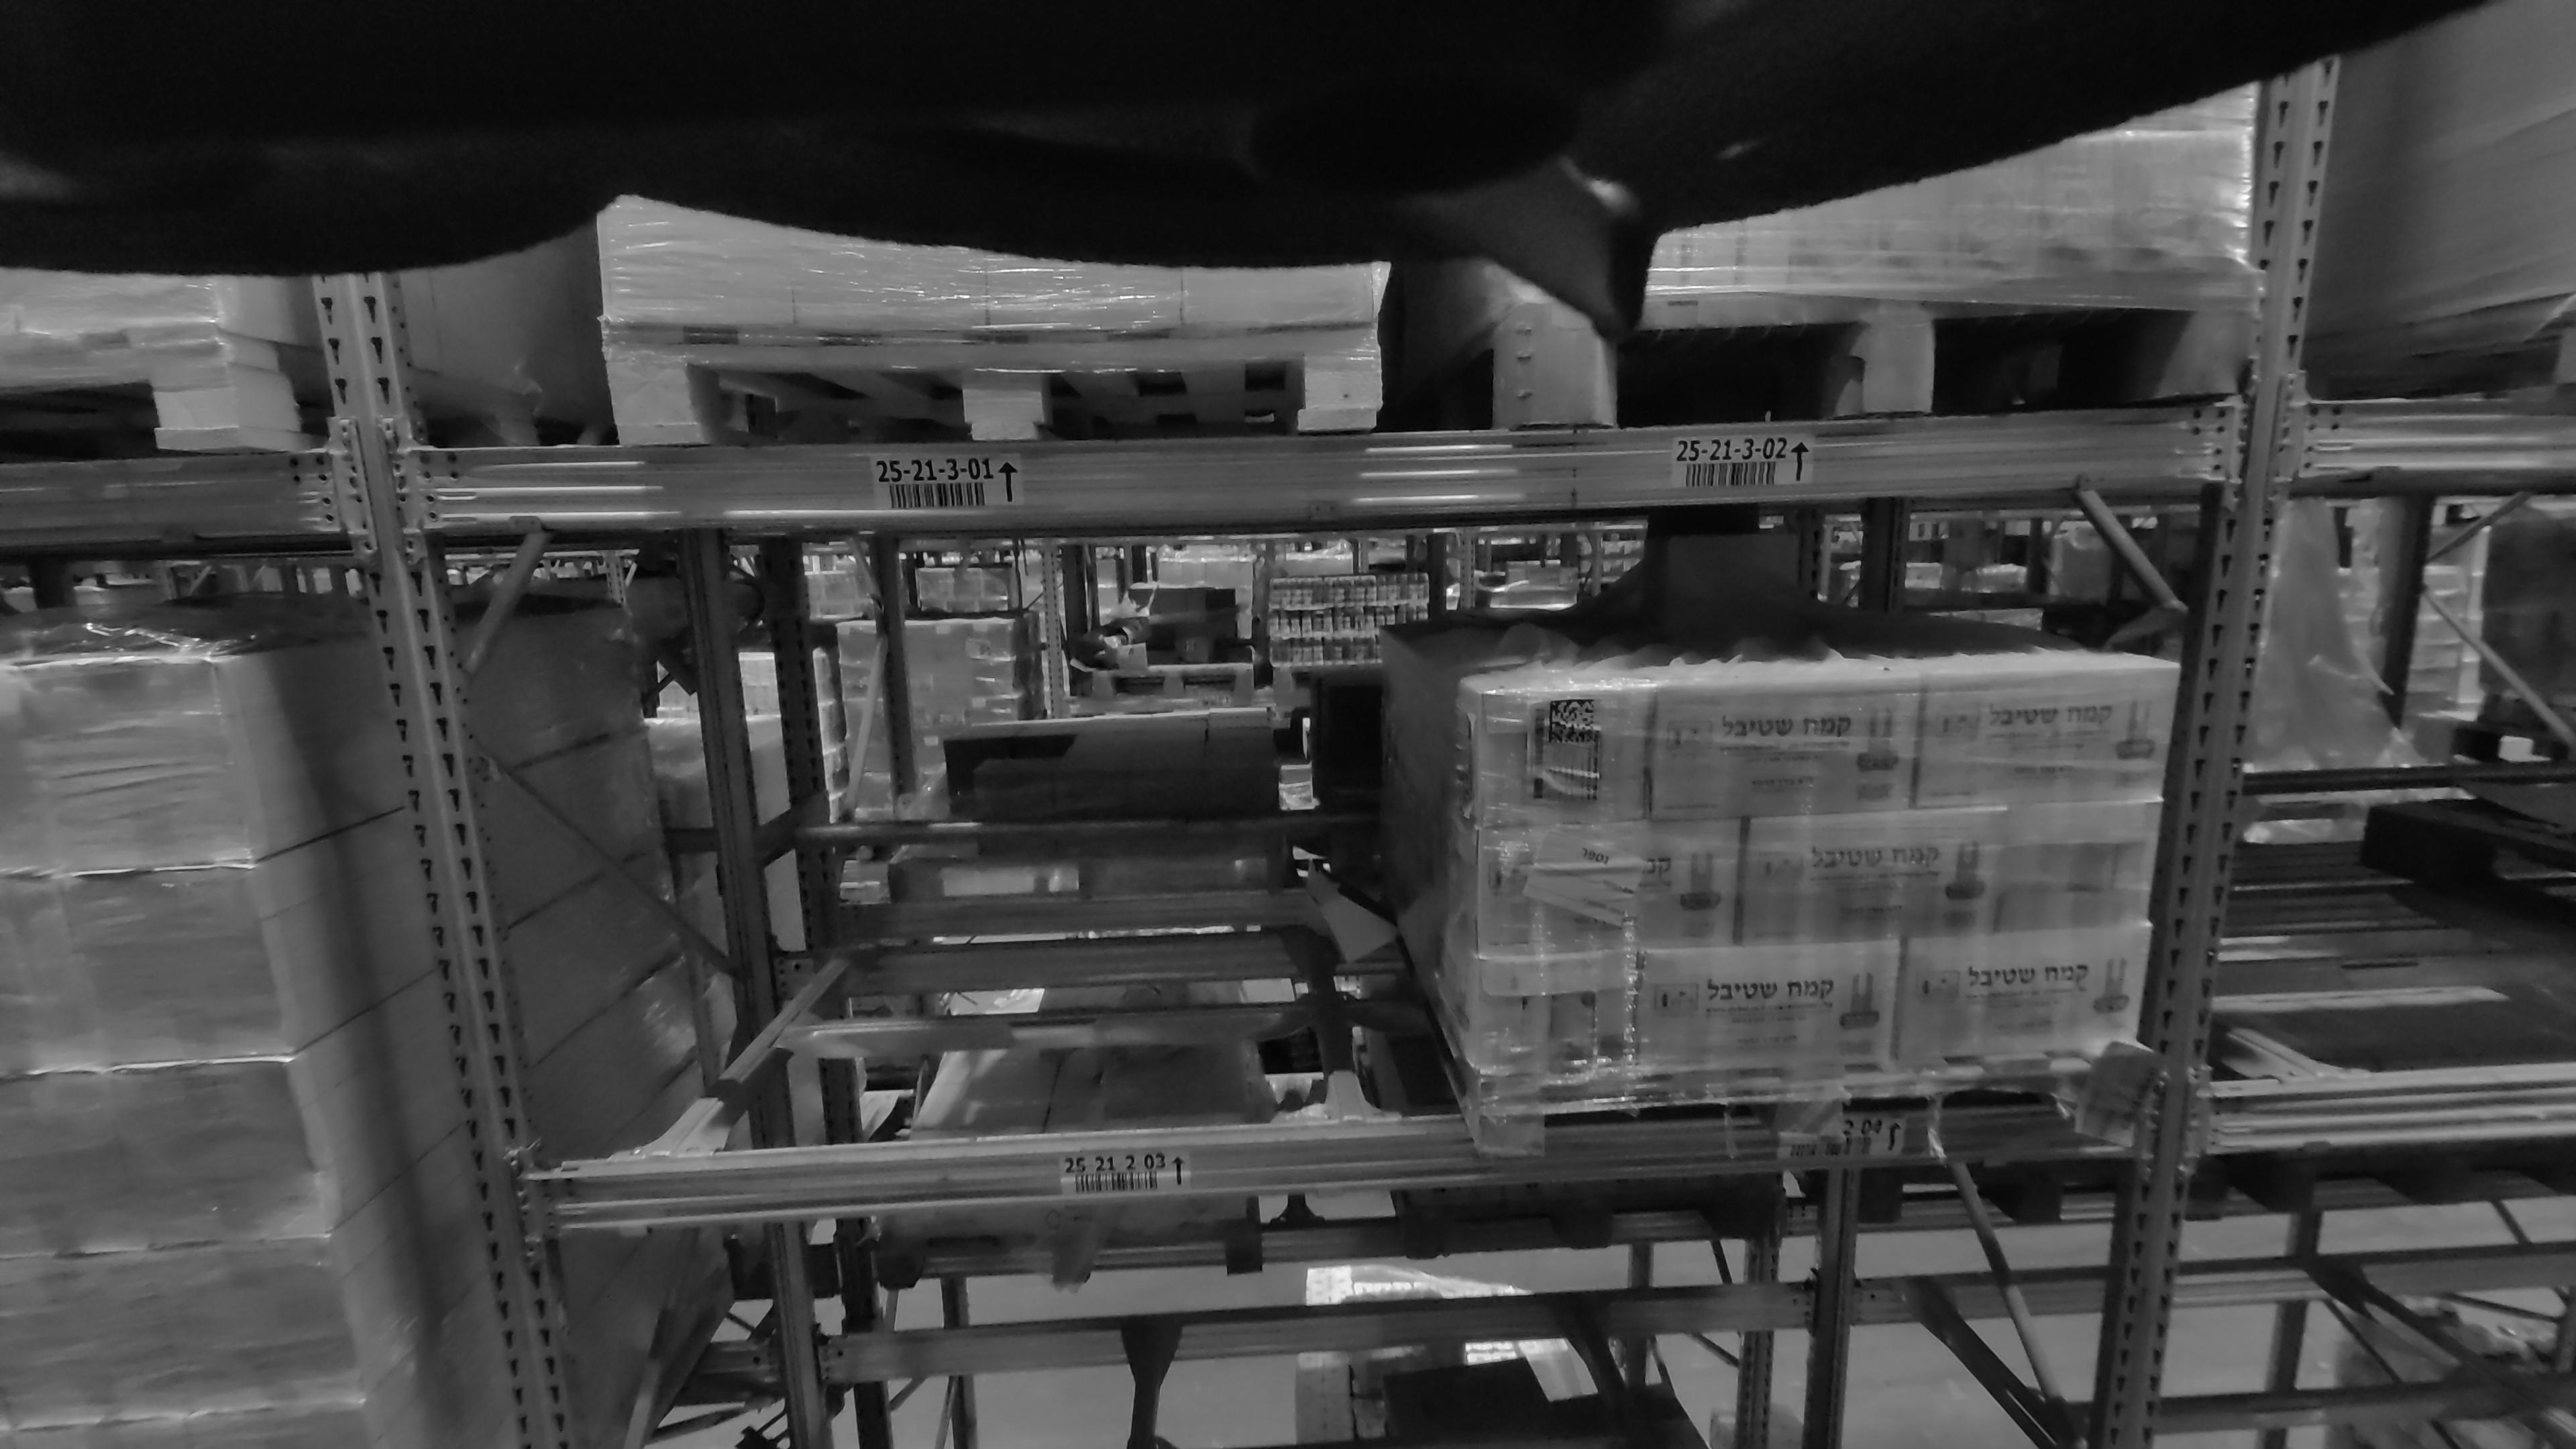empty-shelf: (649, 540, 1364, 1129), (2281, 506, 2576, 1065)
